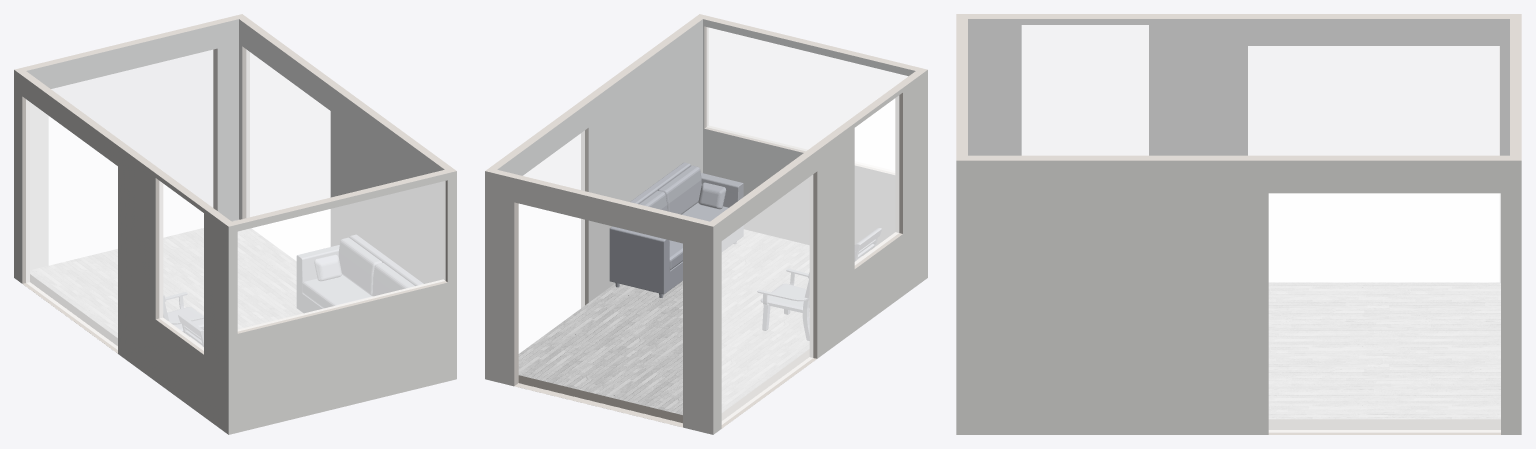
File: Waiting Area.glb
3 renders of one model, left to right at view 1: azimuth 30°, elevation 25°; view 2: azimuth 150°, elevation 25°; view 3: azimuth 270°, elevation 25°, orthographic. The views are drawn at different scales.
Visible parts, largest first — view 1: ceiling_Living Room_0, window_0 (×2), door_0 (×2), wall_3 (×3), wall_0 (×4), door_1 (×2), wall_1 (×3), wall_2 (×3), floor_Living Room_0 (×2), window_1 (×2), sofa0, chair0; view 2: ceiling_Living Room_0, door_0 (×2), window_0 (×2), floor_Living Room_0 (×2), wall_0 (×4), wall_1 (×3), wall_2 (×4), door_1 (×2), wall_3 (×3), window_1 (×2), sofa0, chair0; view 3: door_1 (×2), wall_1 (×3), ceiling_Living Room_0, door_0 (×2), floor_Living Room_0 (×2), window_1 (×2), wall_0 (×2), wall_2, wall_3.
Boxes of the visible parts, x1,y1,x2,y2 form: ceiling_Living Room_0: [27, 19, 443, 220]; window_0 (×2): [238, 181, 445, 331]; door_0 (×2): [26, 99, 117, 349]; wall_3 (×3): [228, 169, 456, 434]; wall_0 (×4): [14, 69, 231, 434]; door_1 (×2): [246, 50, 330, 217]; wall_1 (×3): [239, 14, 456, 283]; wall_2 (×3): [15, 14, 241, 269]; floor_Living Room_0 (×2): [30, 219, 302, 345]; window_1 (×2): [159, 181, 203, 350]; sofa0: [297, 235, 423, 312]; chair0: [163, 292, 203, 336]; ceiling_Living Room_0: [498, 19, 914, 220]; door_0 (×2): [722, 175, 812, 424]; window_0 (×2): [707, 27, 907, 150]; floor_Living Room_0 (×2): [518, 229, 809, 422]; wall_0 (×4): [710, 69, 927, 434]; wall_1 (×3): [485, 14, 702, 307]; wall_2 (×4): [485, 169, 713, 434]; door_1 (×2): [519, 131, 584, 353]; wall_3 (×3): [700, 14, 926, 255]; window_1 (×2): [855, 96, 898, 264]; sofa0: [609, 162, 743, 297]; chair0: [757, 268, 809, 340]; door_1 (×2): [1269, 193, 1500, 432]; wall_1 (×3): [956, 155, 1521, 434]; ceiling_Living Room_0: [968, 19, 1509, 154]; door_0 (×2): [1248, 46, 1499, 155]; floor_Living Room_0 (×2): [1269, 283, 1500, 429]; window_1 (×2): [1022, 25, 1148, 155]; wall_0 (×2): [957, 14, 1520, 282]; wall_2: [1510, 14, 1521, 160]; wall_3: [956, 14, 967, 160].
Size of the model in its own units: 2.99 by 2.61 by 4.87.
16 materials, 1 textured.
